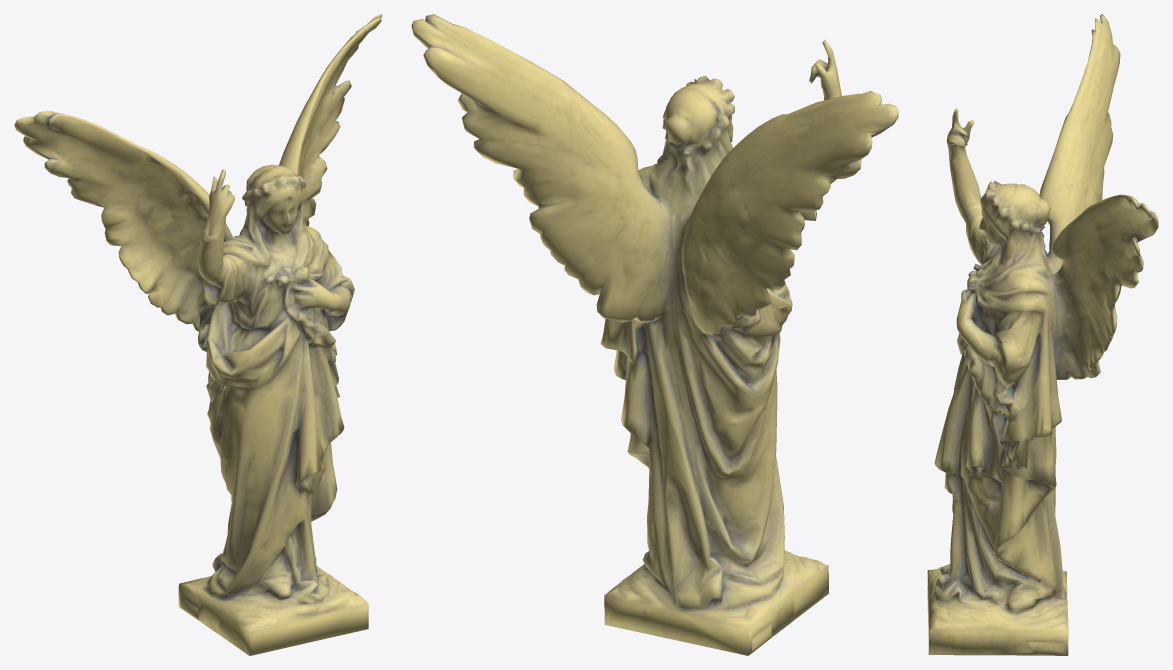
Rendered from angelA.glb.
The picture shows the model from 3 angles, left to right: view 1: azimuth 30°, elevation 25°; view 2: azimuth 150°, elevation 25°; view 3: azimuth 270°, elevation 25°; orthographic projection. The views are drawn at different scales.
Parts seen in each view (by area): view 1: SilverAngel_LP_Unwrap#1_0; view 2: SilverAngel_LP_Unwrap#1_0; view 3: SilverAngel_LP_Unwrap#1_0.
Part boxes in pixels (x1,y1,x2,y2): SilverAngel_LP_Unwrap#1_0: (14,14,382,655); SilverAngel_LP_Unwrap#1_0: (411,14,898,655); SilverAngel_LP_Unwrap#1_0: (927,14,1158,655).
Bounding box in the file's own units: 6.77 × 8.61 × 3.48.
Materials: 1 (1 with a texture image).
